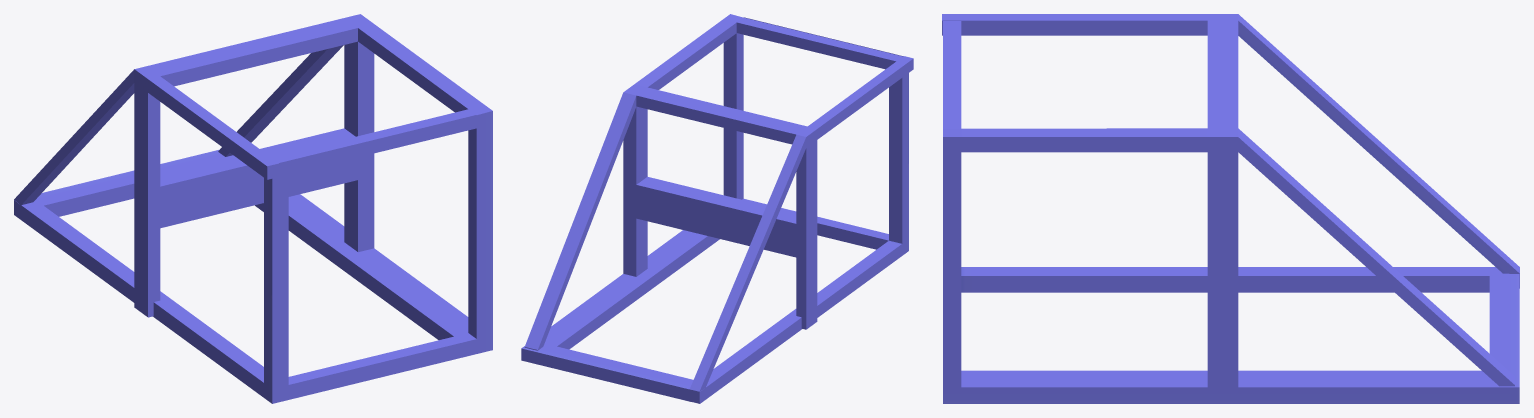
Rendered from Autopilot-Block_Large_Constr1.fbx.
3 views of the same model, side by side, from view 1: azimuth 30°, elevation 25°; view 2: azimuth 150°, elevation 25°; view 3: azimuth 270°, elevation 25° (orthographic). The views are drawn at different scales.
Visible parts, largest first — view 1: Cube; view 2: Cube; view 3: Cube.
Part boxes in pixels (bbox=[...]): Cube: bbox=[14, 14, 492, 403]; Cube: bbox=[521, 14, 913, 403]; Cube: bbox=[942, 14, 1519, 403].
Size of the model in its own units: 2.48 by 2.51 by 4.92.
